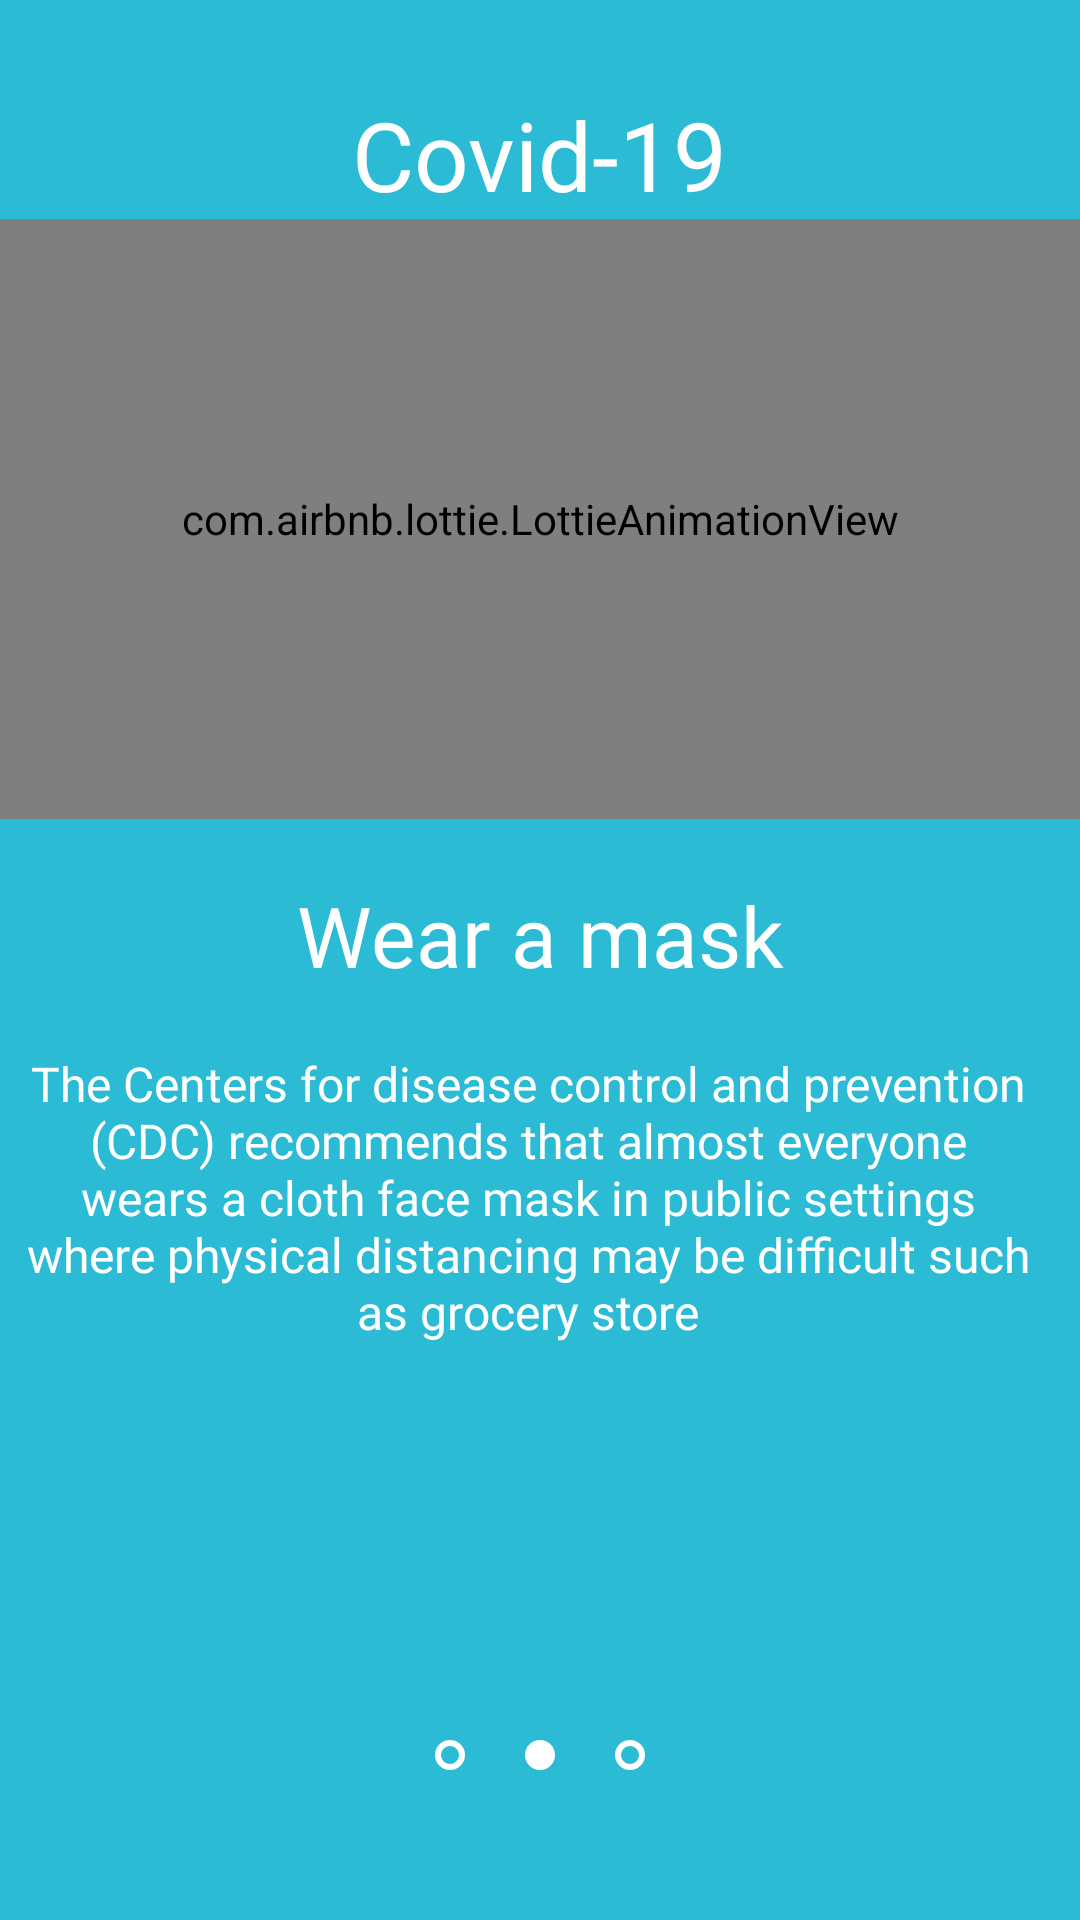

Icon click points for this 1080w x 1920h phone screenshot, format point (x, y):
circle: point (540, 1755)
circle empty: point (450, 1755), point (630, 1755)
